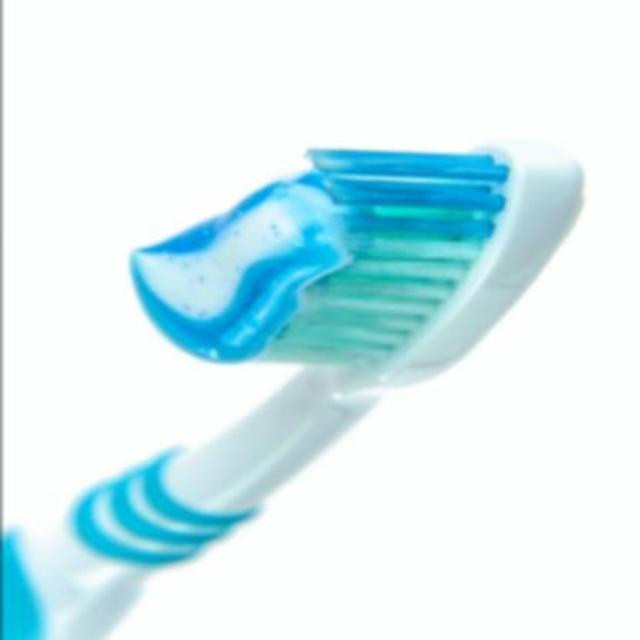toothbrush: (0, 130, 584, 640)
